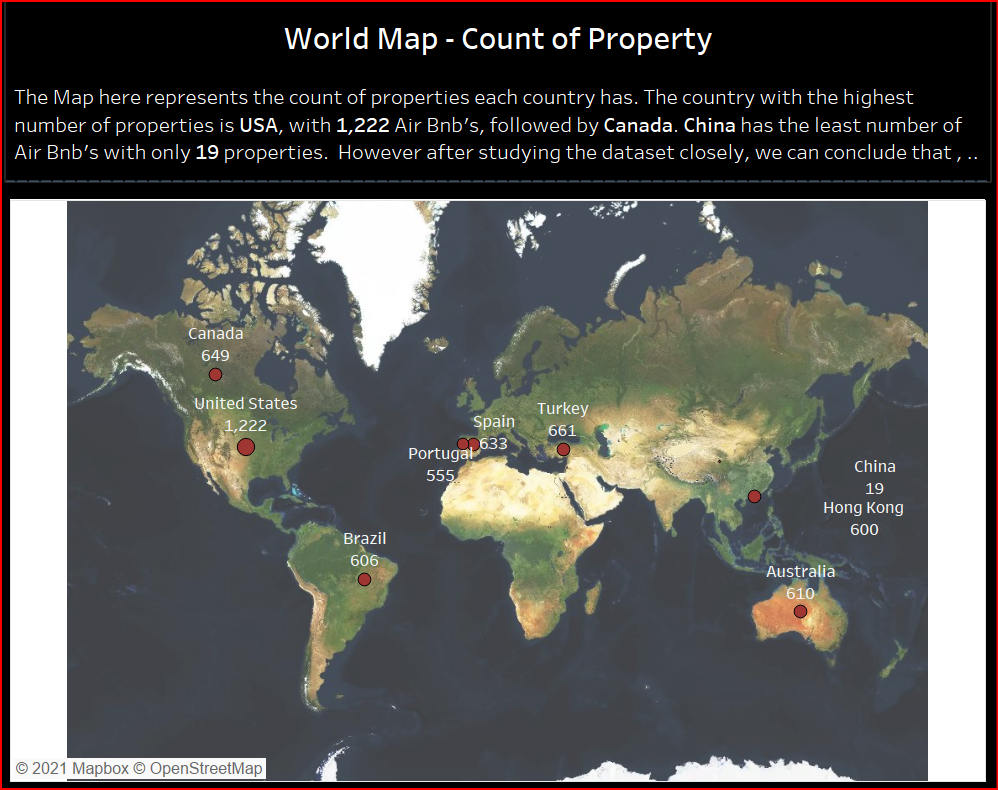

What the dashboard file says about the page in this screenshot:
{"tool":"tableau","page":{"name":"Dashboard 2","canvas":[1000,800],"ordinal":0},"visuals":[{"type":"text","box":[8,8,984,179]},{"type":"worksheet","title":"World Map","mark":"Automatic","box":[8,187,984,605]}]}

Visuals, with their boxes in screenshot pixels (x1, y1, x2, y2), scaled from the page's 1000x800 canvas onto the 998x790 screenshot:
text: detection(8, 8, 990, 185)
"World Map" worksheet: detection(8, 185, 990, 782)
